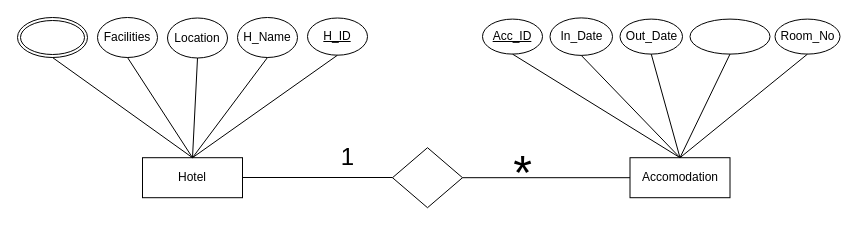
This 858x226 diagram has some shape labels left out. The shapes that lost their labels are listed below. From the top down, each one's centre as x and y in pixels, then its label:
At point 52,37: "Ratings".
At point 729,36: "Room_Type".
At point 427,177: "Offers".
